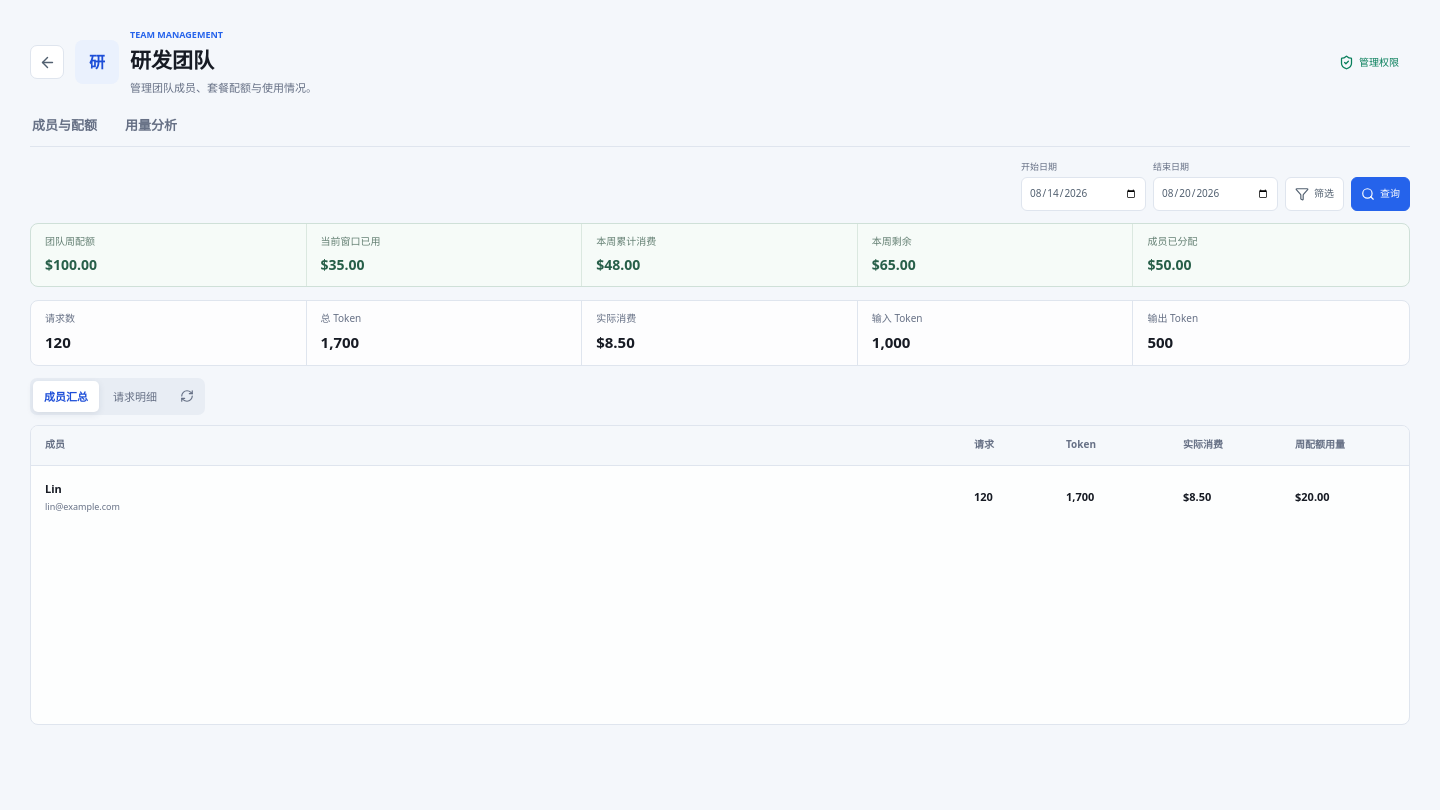
Scenario: UserGroupUsageView › loads a seven-day range and switches between member and request detail views
What coordinates should you click on to do the following:
click the button "请求明细"
I would click on:
 (135, 396)
Its box is 102,381 -> 168,412.
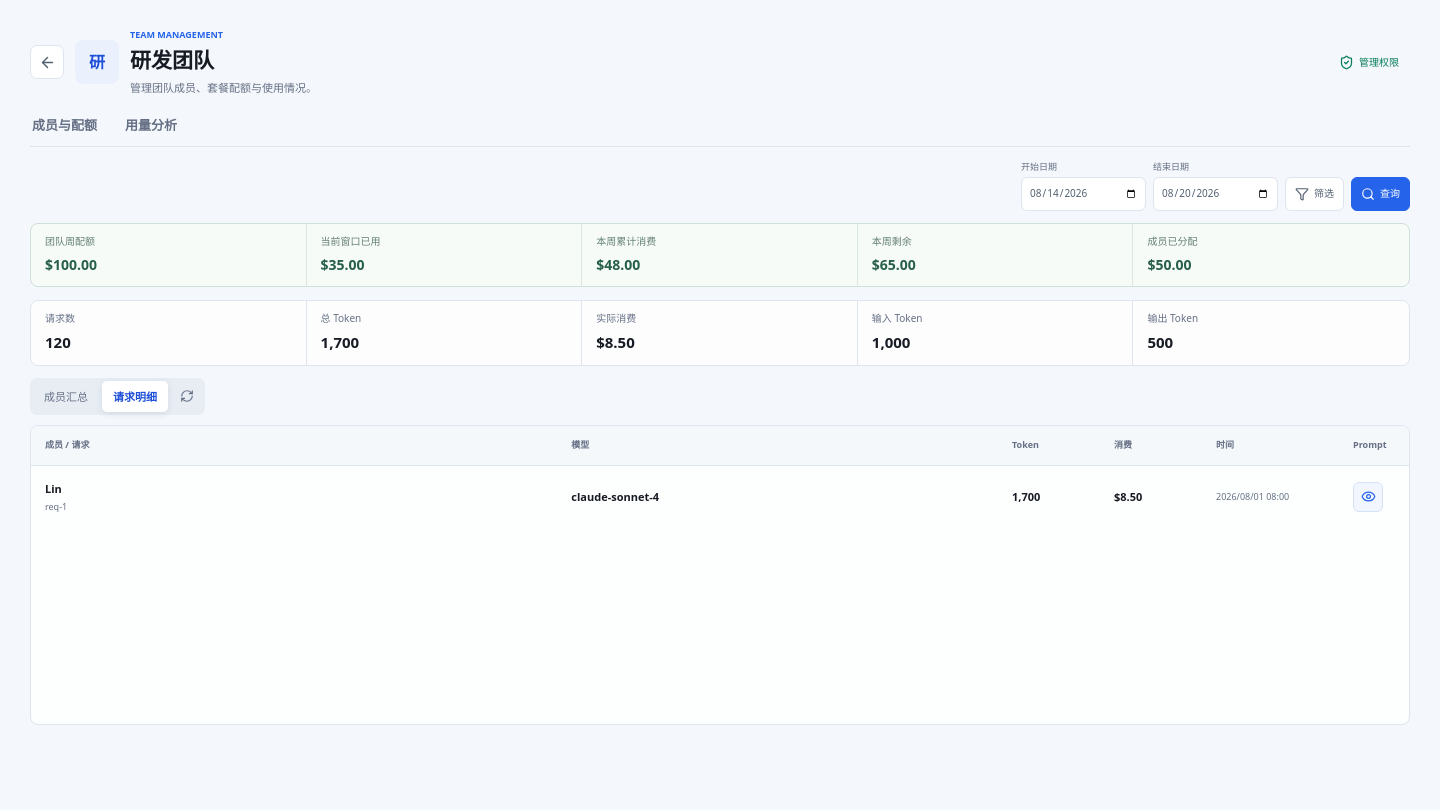
Check: the text "$8.50" is shown, box 596,332 -> 635,352
Check: the text "req-1" is shown, box 45,500 -> 67,513
